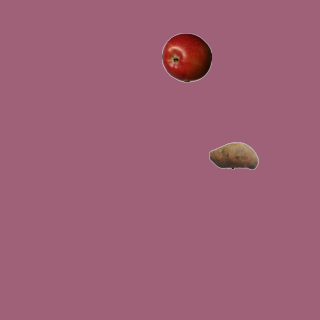Apple Braeburn: (161, 32, 211, 82)
Potato Sweet: (208, 130, 258, 180)
